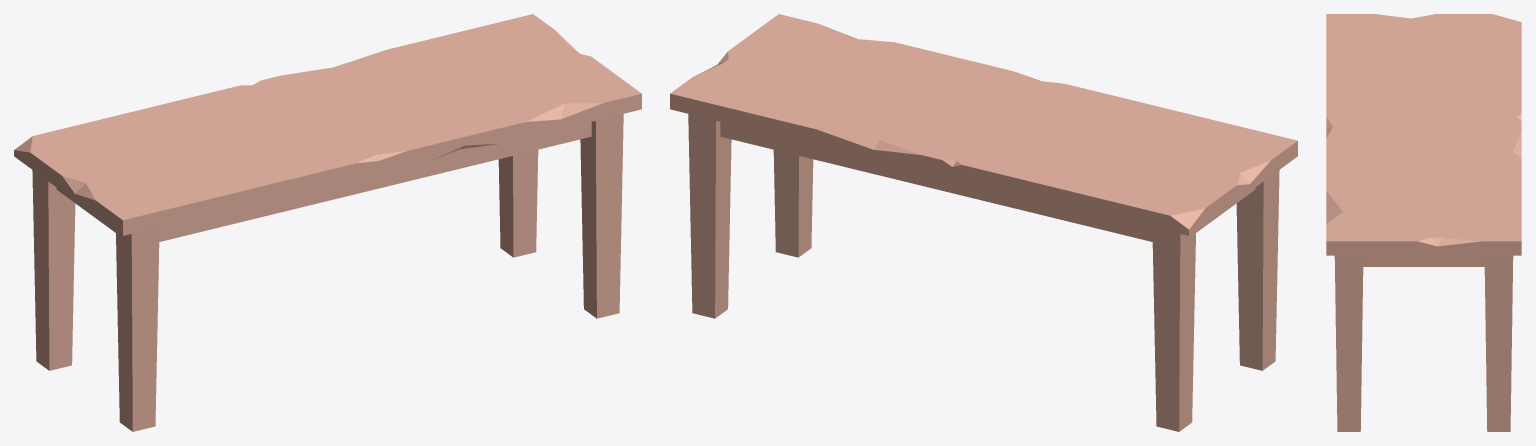
The model's file is Sidetable.FBX.
3 renders of one model, left to right at view 1: azimuth 30°, elevation 25°; view 2: azimuth 150°, elevation 25°; view 3: azimuth 270°, elevation 25°, orthographic. The views are drawn at different scales.
Visible parts, largest first — view 1: SideTable_01; view 2: SideTable_01; view 3: SideTable_01.
Boxes of the visible parts, x1=… form: SideTable_01: x1=14, y1=14, x2=641, y2=431; SideTable_01: x1=670, y1=14, x2=1297, y2=431; SideTable_01: x1=1326, y1=14, x2=1521, y2=431.
Size of the model in its own units: 60.08 by 24.35 by 21.82.
